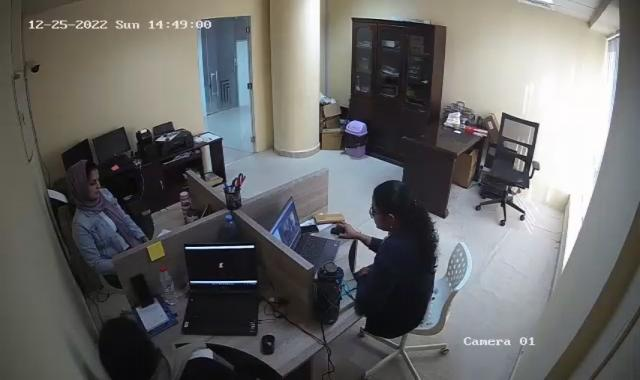no_hairnet: (99, 323, 155, 374), (369, 179, 411, 228), (68, 161, 100, 201)
